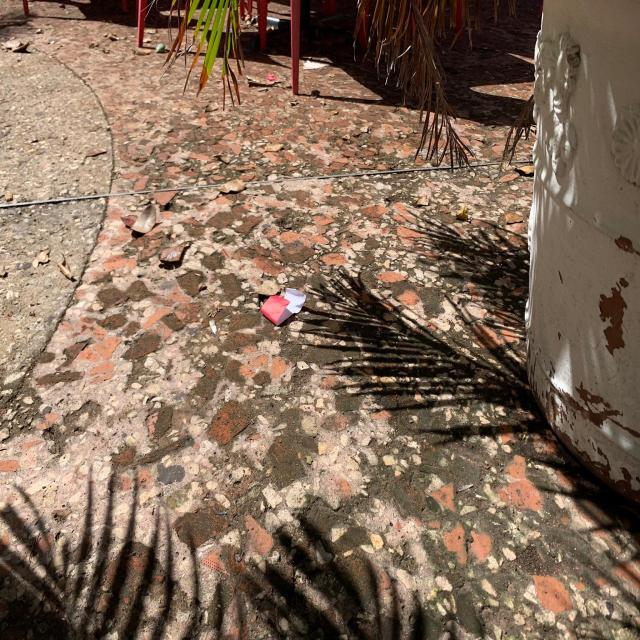litter: (257, 279, 312, 327)
